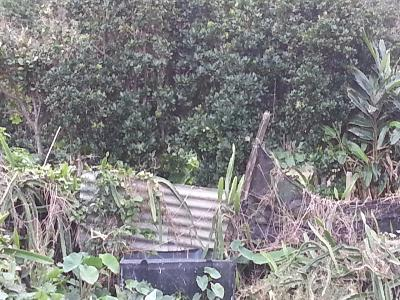box: (112, 242, 236, 300)
